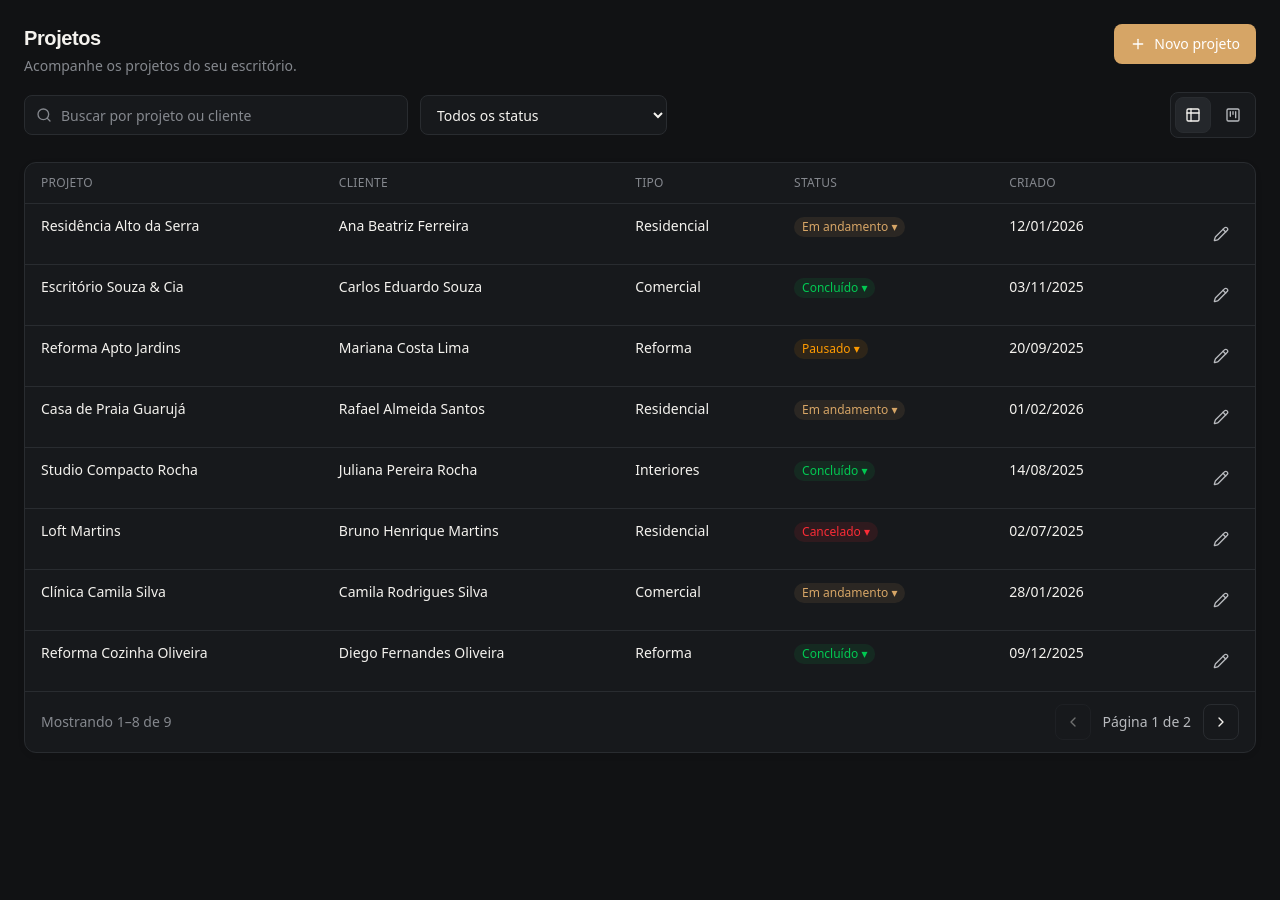
it: ProjectsPage › filters rows by project/client name as the user types (debounced)
Expected: the link "Residência Alto da Serra" is shown, [41,216,200,235]
Type "escritório souza" into the field with placeholder "Buscar por projeto ou cliente" at (216, 115), box [24,95,408,135]
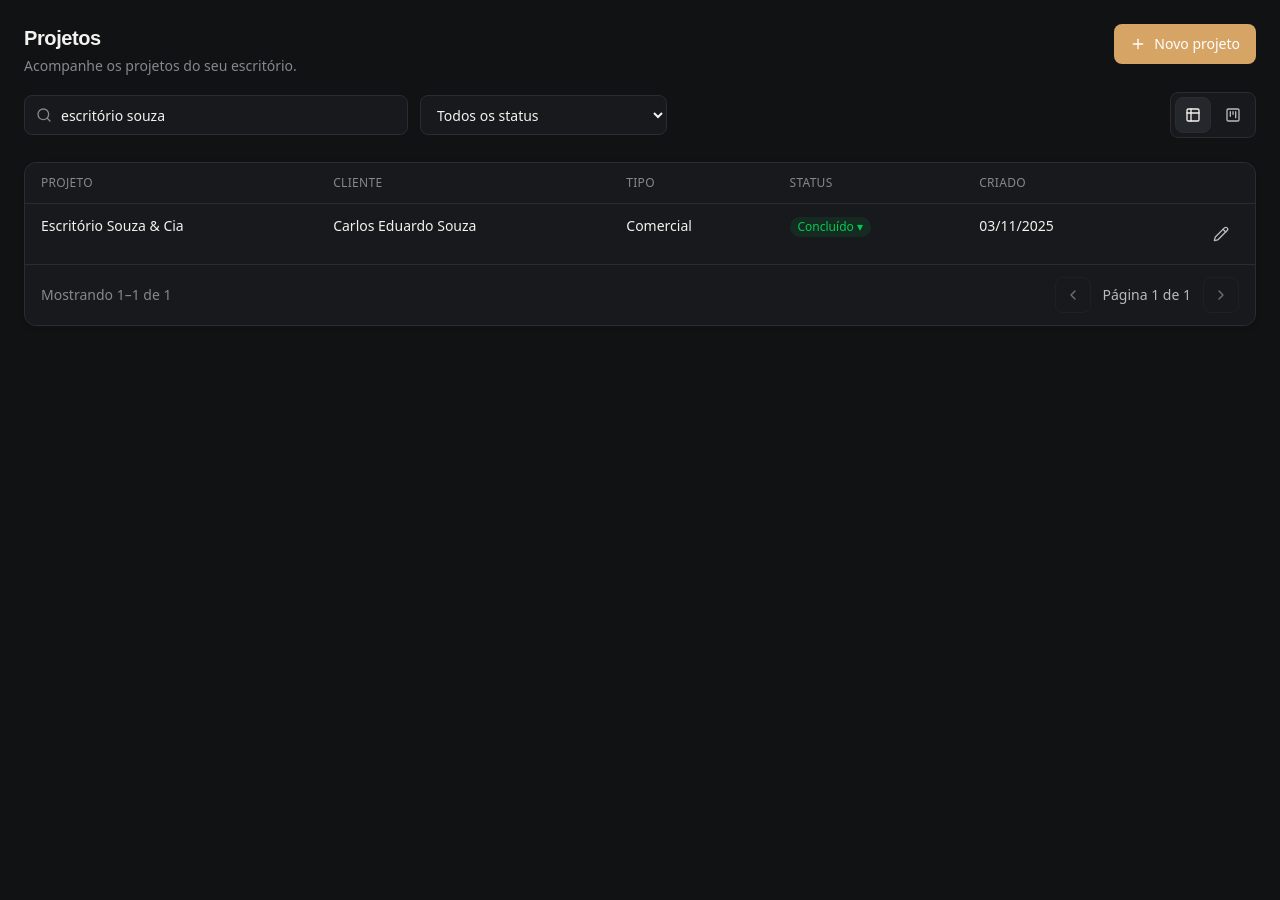
Expected: the link "Escritório Souza & Cia" is shown, [41,216,184,235]
Expected: the link "Residência Alto da Serra" is gone
